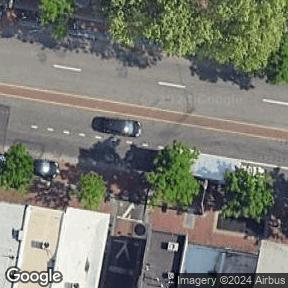vegetation: (104, 0, 287, 72), (144, 140, 199, 209), (226, 172, 272, 218), (0, 141, 39, 194), (40, 0, 76, 40), (74, 170, 108, 211)
